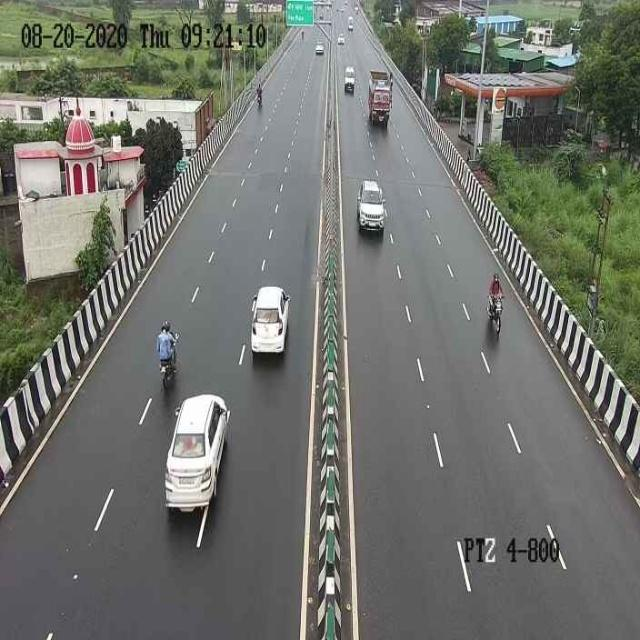car: (159, 388, 229, 527), (243, 280, 292, 365), (355, 175, 388, 238)
